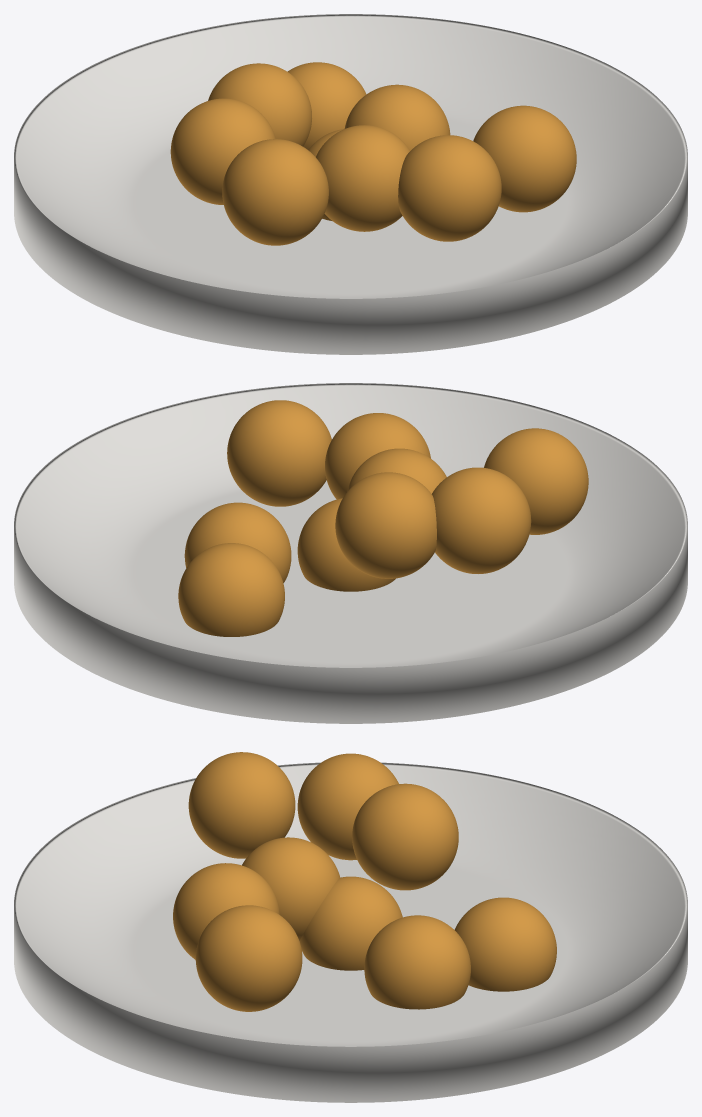
The model's file is empanados-2-hero.glb.
The picture shows the model from 3 angles, top to bottom: view 1: azimuth 30°, elevation 25°; view 2: azimuth 150°, elevation 25°; view 3: azimuth 270°, elevation 25°; orthographic projection.
Bounding box in the file's own units: 0.24 × 0.062 × 0.24.
